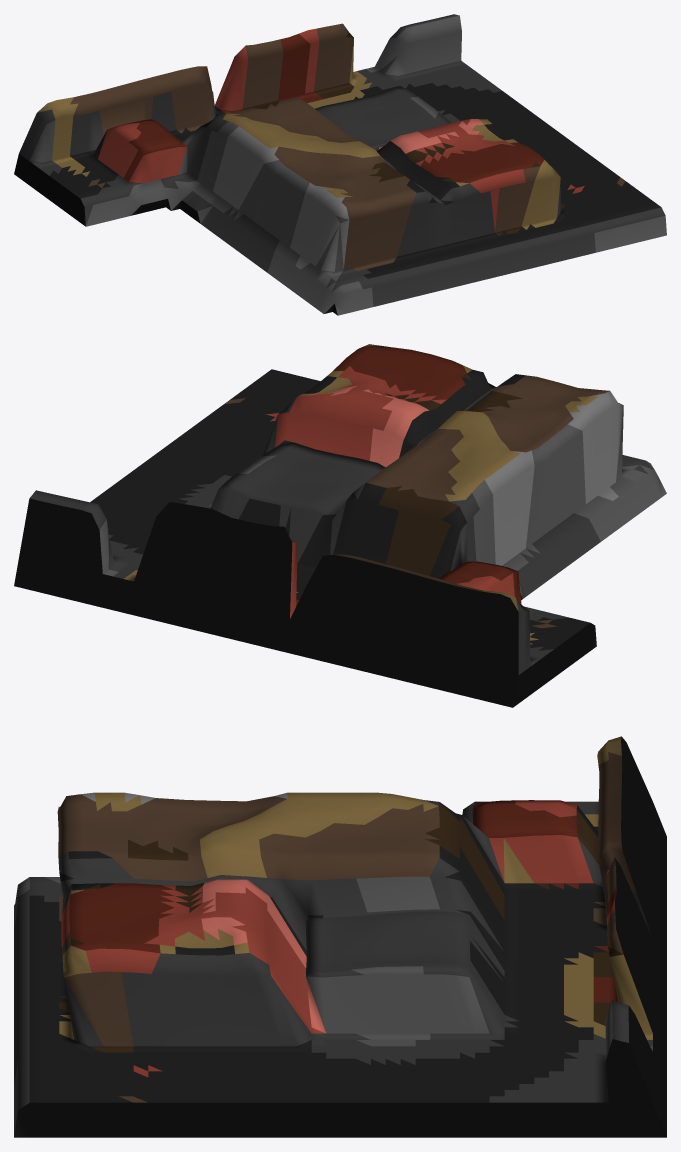
File: red_works_bl.glb
3 renders of one model, top to bottom at view 1: azimuth 30°, elevation 25°; view 2: azimuth 150°, elevation 25°; view 3: azimuth 270°, elevation 25°, orthographic. The views are drawn at different scales.
Visible parts, largest first — view 1: red_works_bl; view 2: red_works_bl; view 3: red_works_bl.
Part boxes in pixels (left/top/right/bottom): red_works_bl: left=14, top=14, right=666, bottom=315; red_works_bl: left=14, top=344, right=666, bottom=707; red_works_bl: left=14, top=736, right=666, bottom=1137.
Bounding box in the file's own units: 24 × 4.9 × 22.
